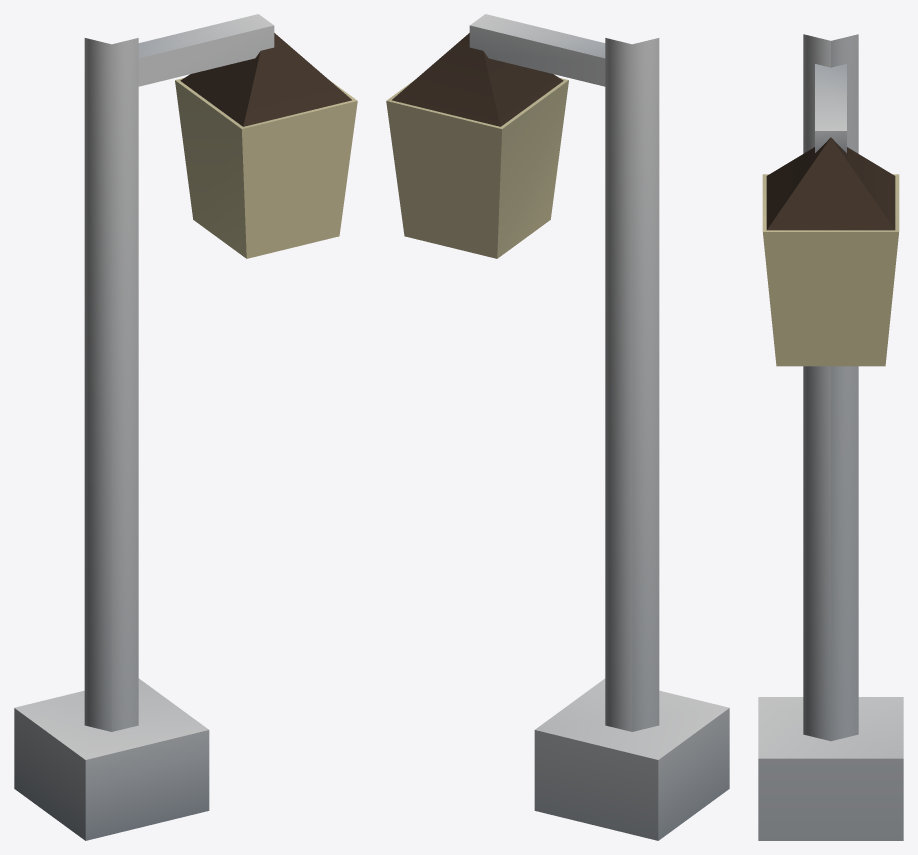
The model's file is prop_lamp.glb.
The picture shows the model from 3 angles, left to right: view 1: azimuth 30°, elevation 25°; view 2: azimuth 150°, elevation 25°; view 3: azimuth 270°, elevation 25°; orthographic projection.
Parts seen in each view (by area): view 1: prop_lamp; view 2: prop_lamp; view 3: prop_lamp.
Part boxes in pixels (box(x1,y1,x2,y2)): prop_lamp: box(14, 14, 357, 840); prop_lamp: box(386, 14, 729, 840); prop_lamp: box(758, 34, 903, 840).
Bounding box in the file's own units: 0.355 × 0.95 × 0.16.
